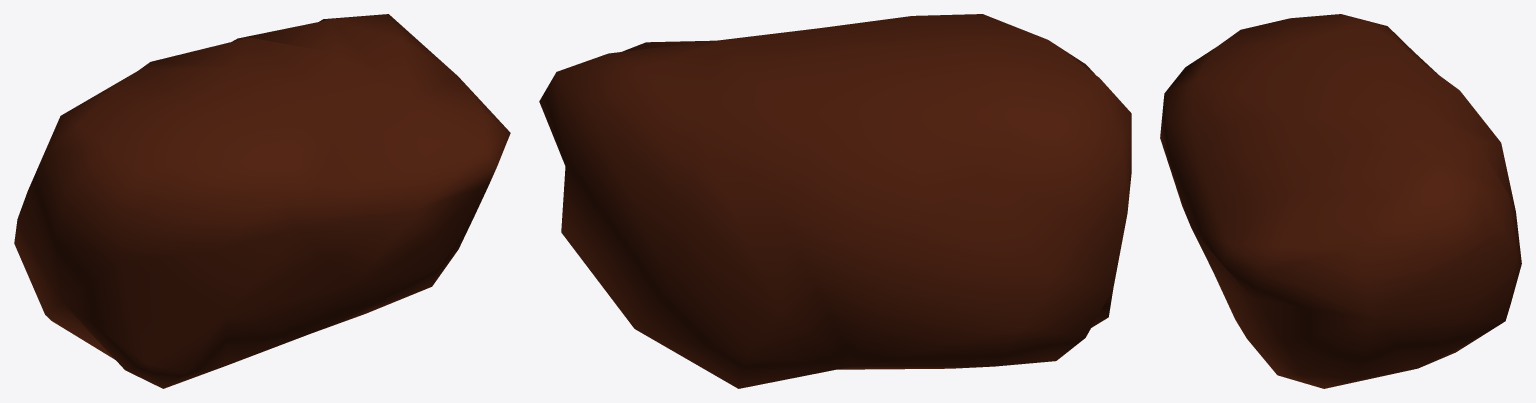
The model's file is choc_2.fbx.
3 views of the same model, side by side, from view 1: azimuth 30°, elevation 25°; view 2: azimuth 150°, elevation 25°; view 3: azimuth 270°, elevation 25° (orthographic). The views are drawn at different scales.
Visible parts, largest first — view 1: choc_2; view 2: choc_2; view 3: choc_2.
Part boxes in pixels (box(x1,y1,x2,y2)): choc_2: box(14, 14, 510, 388); choc_2: box(539, 14, 1131, 388); choc_2: box(1160, 14, 1521, 388).
Size of the model in its own units: 2.94 by 1.56 by 2.15.
